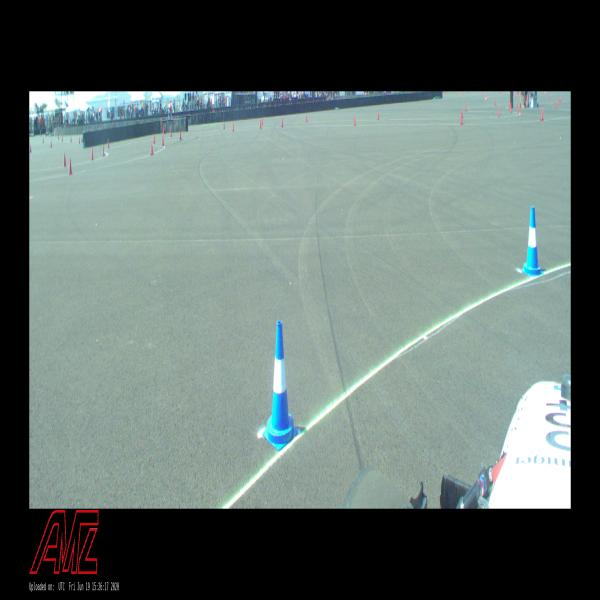blue_cone: (262, 321, 298, 450), (522, 207, 544, 275)
unknown_cone: (69, 159, 72, 174), (460, 112, 463, 124), (554, 99, 557, 110), (353, 115, 356, 126), (64, 153, 66, 166), (541, 108, 543, 121), (151, 143, 153, 154), (91, 149, 93, 160), (102, 146, 104, 156), (162, 136, 164, 146), (461, 108, 463, 118), (510, 102, 512, 112), (517, 105, 519, 114), (179, 130, 181, 139), (232, 123, 234, 132), (281, 118, 283, 127), (377, 111, 379, 119), (170, 129, 172, 137), (559, 94, 561, 102), (153, 135, 155, 143), (548, 91, 550, 98), (261, 118, 263, 125), (50, 141, 52, 147), (70, 136, 72, 142), (81, 136, 83, 142), (498, 106, 499, 116), (306, 113, 307, 122), (108, 140, 109, 148), (466, 103, 467, 111), (30, 144, 31, 152), (224, 121, 225, 129), (260, 120, 261, 128), (509, 100, 510, 108), (495, 98, 496, 105), (79, 137, 80, 143), (487, 94, 488, 100), (485, 94, 486, 99), (43, 138, 44, 142)
